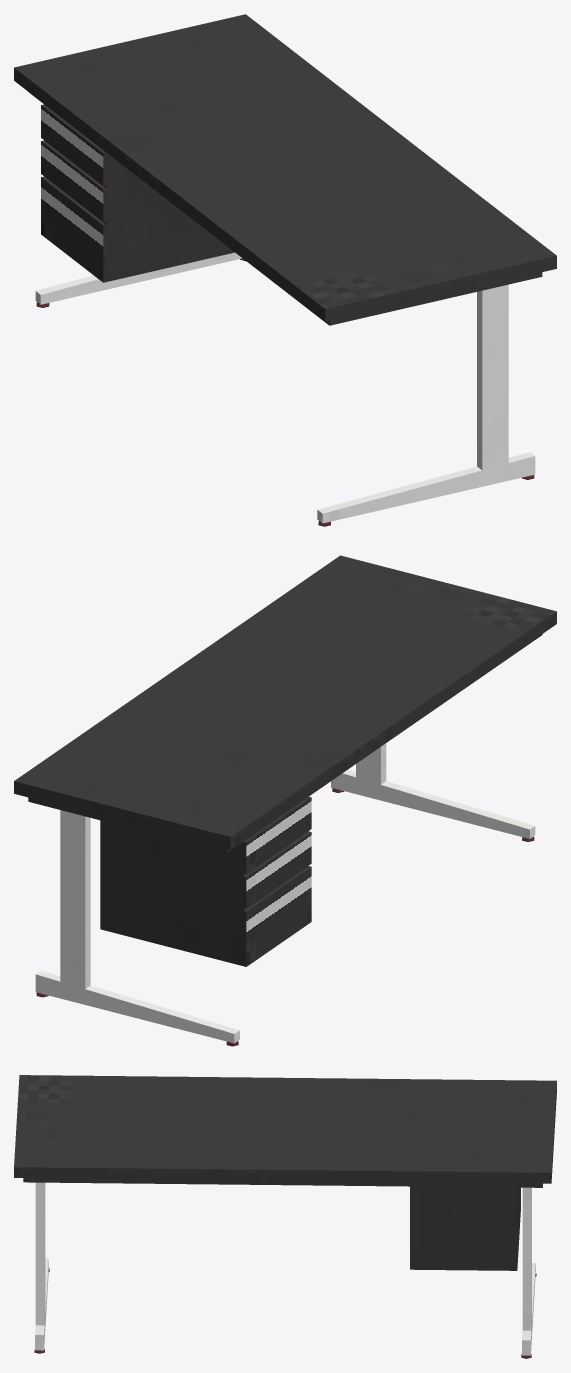
File: Desk.glb
The picture shows the model from 3 angles, top to bottom: view 1: azimuth 30°, elevation 25°; view 2: azimuth 150°, elevation 25°; view 3: azimuth 270°, elevation 25°; orthographic projection. The views are drawn at different scales.
Visible parts, largest first — view 1: Desk; view 2: Desk; view 3: Desk.
Part boxes in pixels (x1,y1,x2,y2): Desk: (14, 14, 556, 526); Desk: (14, 555, 556, 1046); Desk: (14, 1075, 556, 1358).
Size of the model in its own units: 0.00881 by 0.00796 by 0.0207.
1 material, 1 textured.
